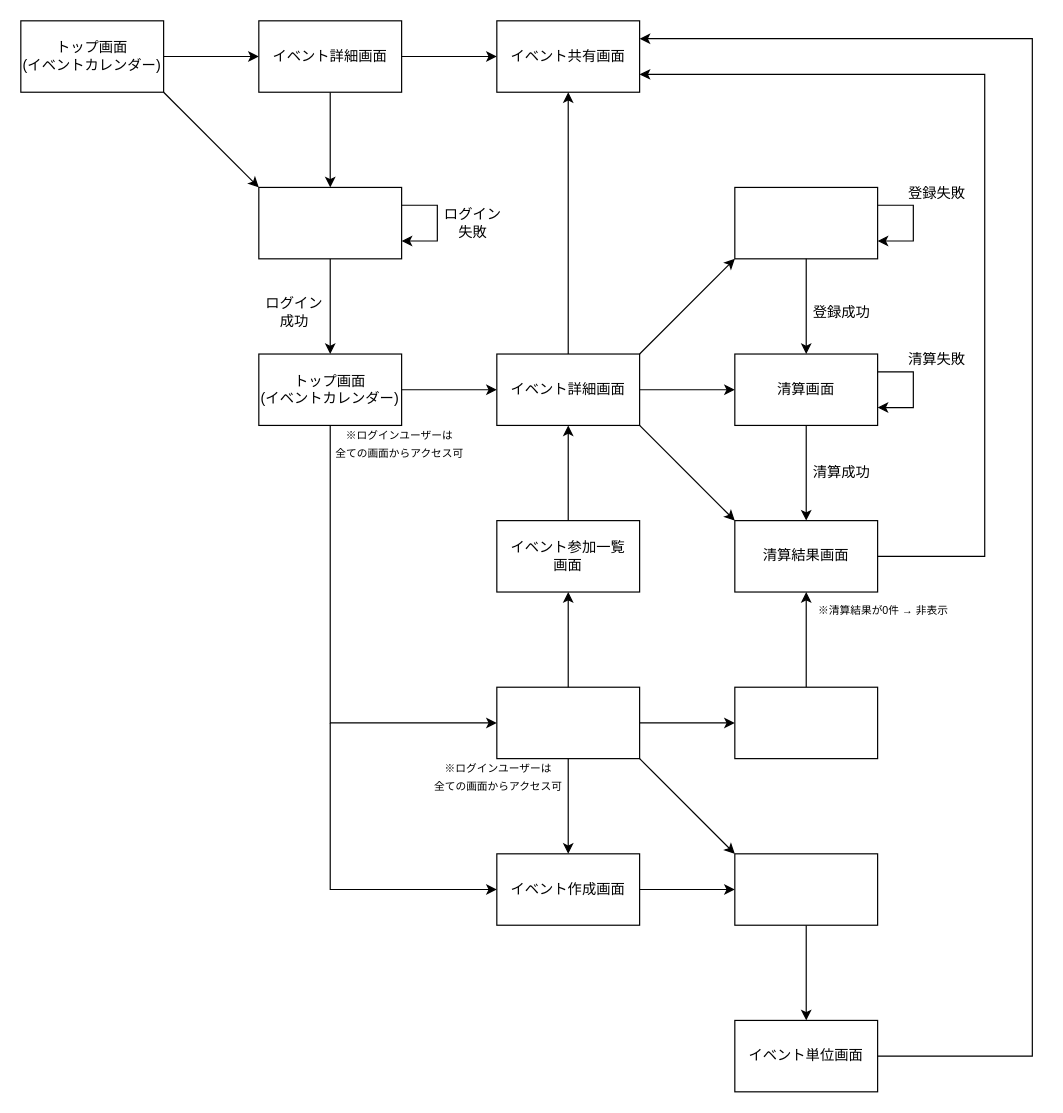
This 1063x1113 diagram has some shape labels left out. Here are the shapes that lost their labels. From the top down, the box of each, then its label:
(258, 186, 402, 259): ログイン画面
(734, 186, 878, 259): 支払い登録画面
(496, 686, 640, 759): マイページ画面
(734, 686, 878, 759): 過去参加イベント 一覧画面
(734, 853, 878, 925): イベント管理画面
